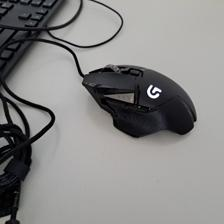mouse: (80, 63, 196, 137)
